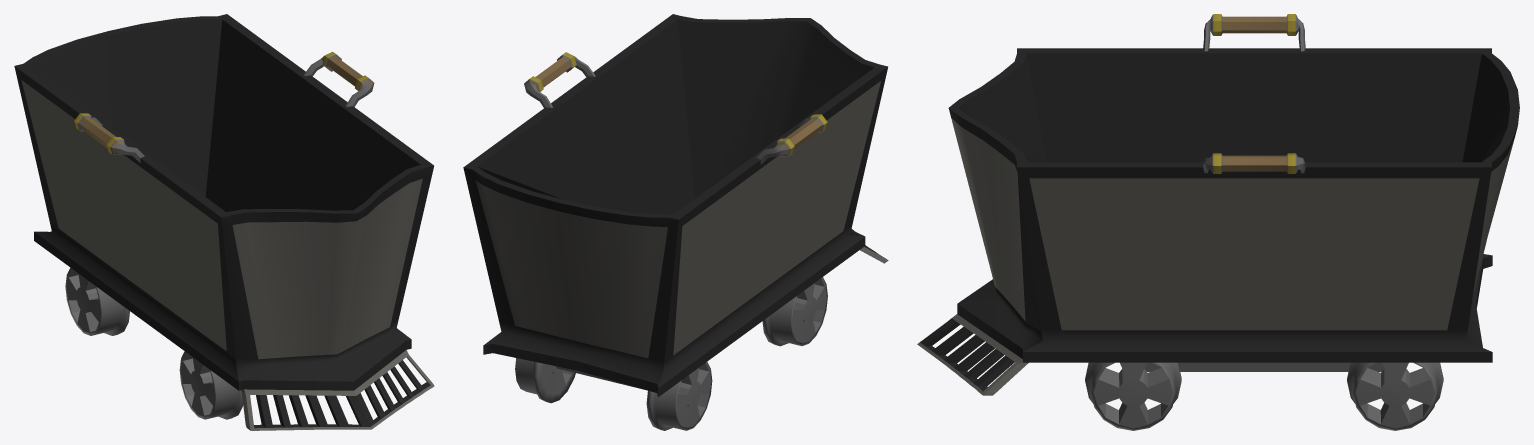
File: Bañera con ruedas.fbx
3 renders of one model, left to right at view 1: azimuth 30°, elevation 25°; view 2: azimuth 150°, elevation 25°; view 3: azimuth 270°, elevation 25°, orthographic. The views are drawn at different scales.
Parts seen in each view (by area): view 1: Cart, CosaDeDelante, RuedaBack, RuedaFront, HandleL, HandleR; view 2: Cart, RuedaBack, RuedaFront, HandleL, HandleR; view 3: Cart, RuedaBack, RuedaFront, CosaDeDelante, HandleR, HandleL.
Part boxes in pixels (<box>): Cart: <box>14,14,433,390</box>; CosaDeDelante: <box>241,350,434,430</box>; RuedaBack: <box>65,268,129,335</box>; RuedaFront: <box>179,351,243,419</box>; HandleL: <box>303,51,374,106</box>; HandleR: <box>74,113,144,162</box>; Cart: <box>463,14,887,397</box>; RuedaBack: <box>515,358,712,430</box>; RuedaFront: <box>762,277,827,346</box>; HandleL: <box>524,52,595,107</box>; HandleR: <box>756,114,827,164</box>; Cart: <box>948,48,1519,371</box>; RuedaBack: <box>1347,362,1443,430</box>; RuedaFront: <box>1085,362,1181,430</box>; CosaDeDelante: <box>917,314,1028,395</box>; HandleR: <box>1203,14,1305,51</box>; HandleL: <box>1203,153,1305,173</box>.
Size of the model in its own units: 8.26 by 8.01 by 14.24.
